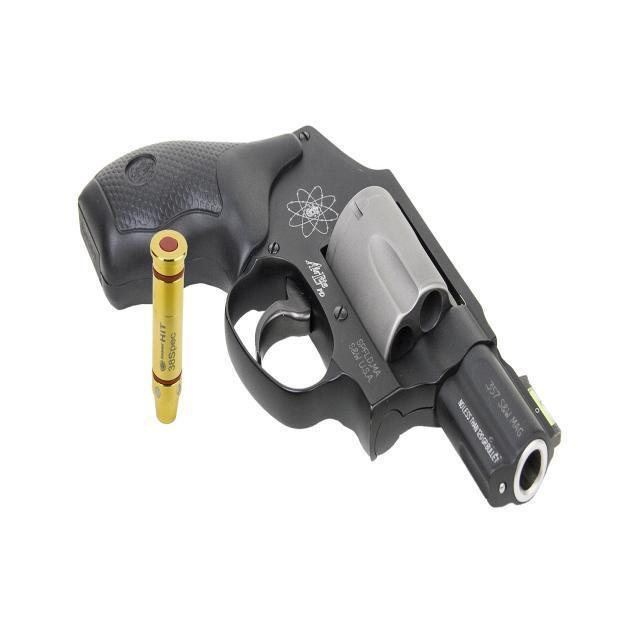gun: (74, 124, 562, 508)
